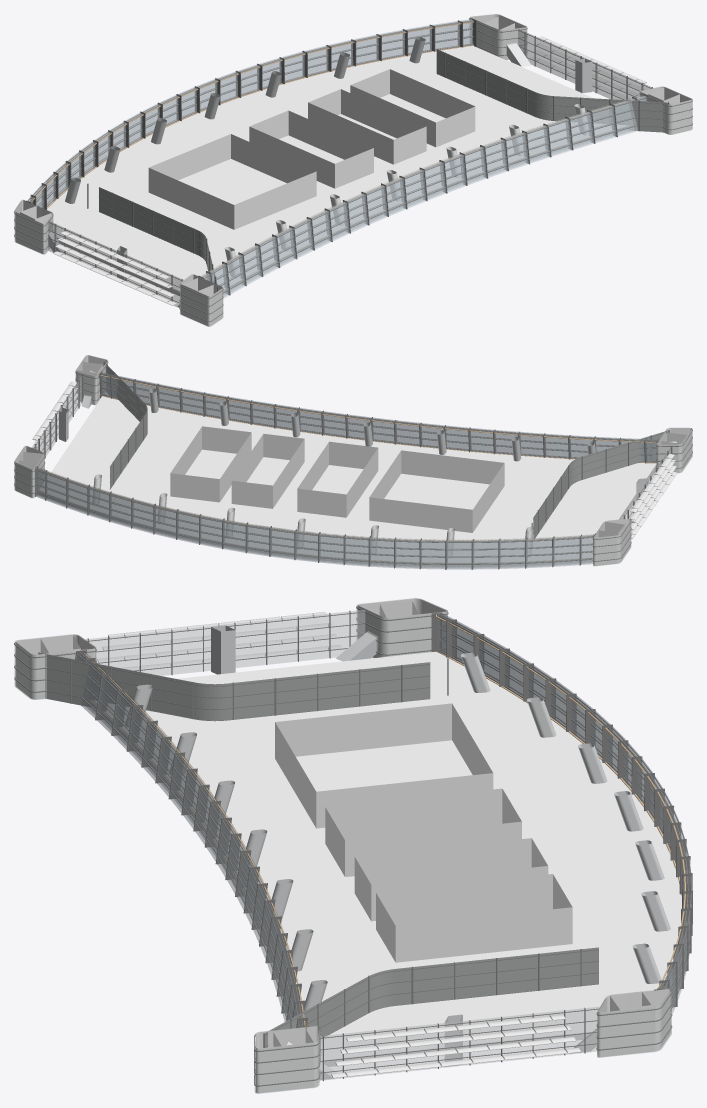
3 views of the same model, one above another, from view 1: azimuth 30°, elevation 25°; view 2: azimuth 150°, elevation 25°; view 3: azimuth 270°, elevation 25° (orthographic). The views are drawn at different scales.
Parts seen in each view (by area): view 1: floor.021; view 2: floor.021; view 3: floor.021.
Part boxes in pixels (x1=…): floor.021: x1=14, y1=14, x2=692, y2=326; floor.021: x1=14, y1=355, x2=692, y2=569; floor.021: x1=14, y1=598, x2=692, y2=1093.
Size of the model in its own units: 81.89 by 3.79 by 52.04.
14 materials, 1 textured.
